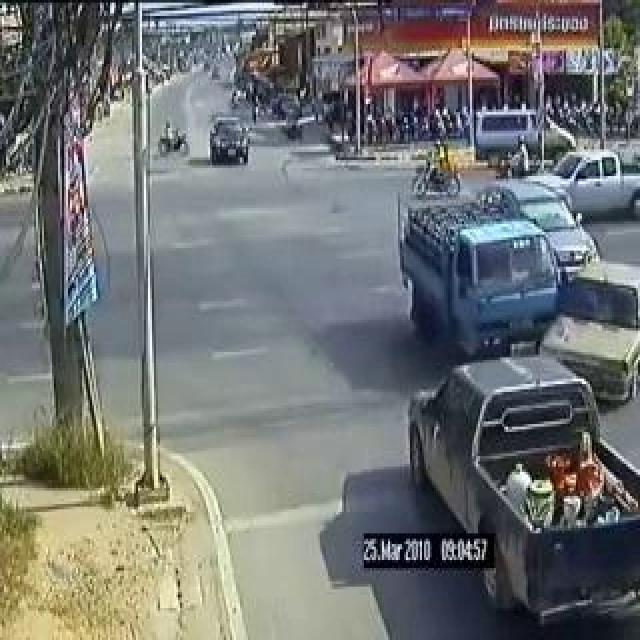bike: (410, 144, 463, 197), (496, 134, 540, 192), (154, 117, 188, 160)
car: (396, 352, 640, 624), (398, 187, 569, 362), (544, 250, 640, 394), (480, 179, 600, 274), (524, 145, 640, 227), (476, 107, 578, 166), (208, 115, 248, 168)
